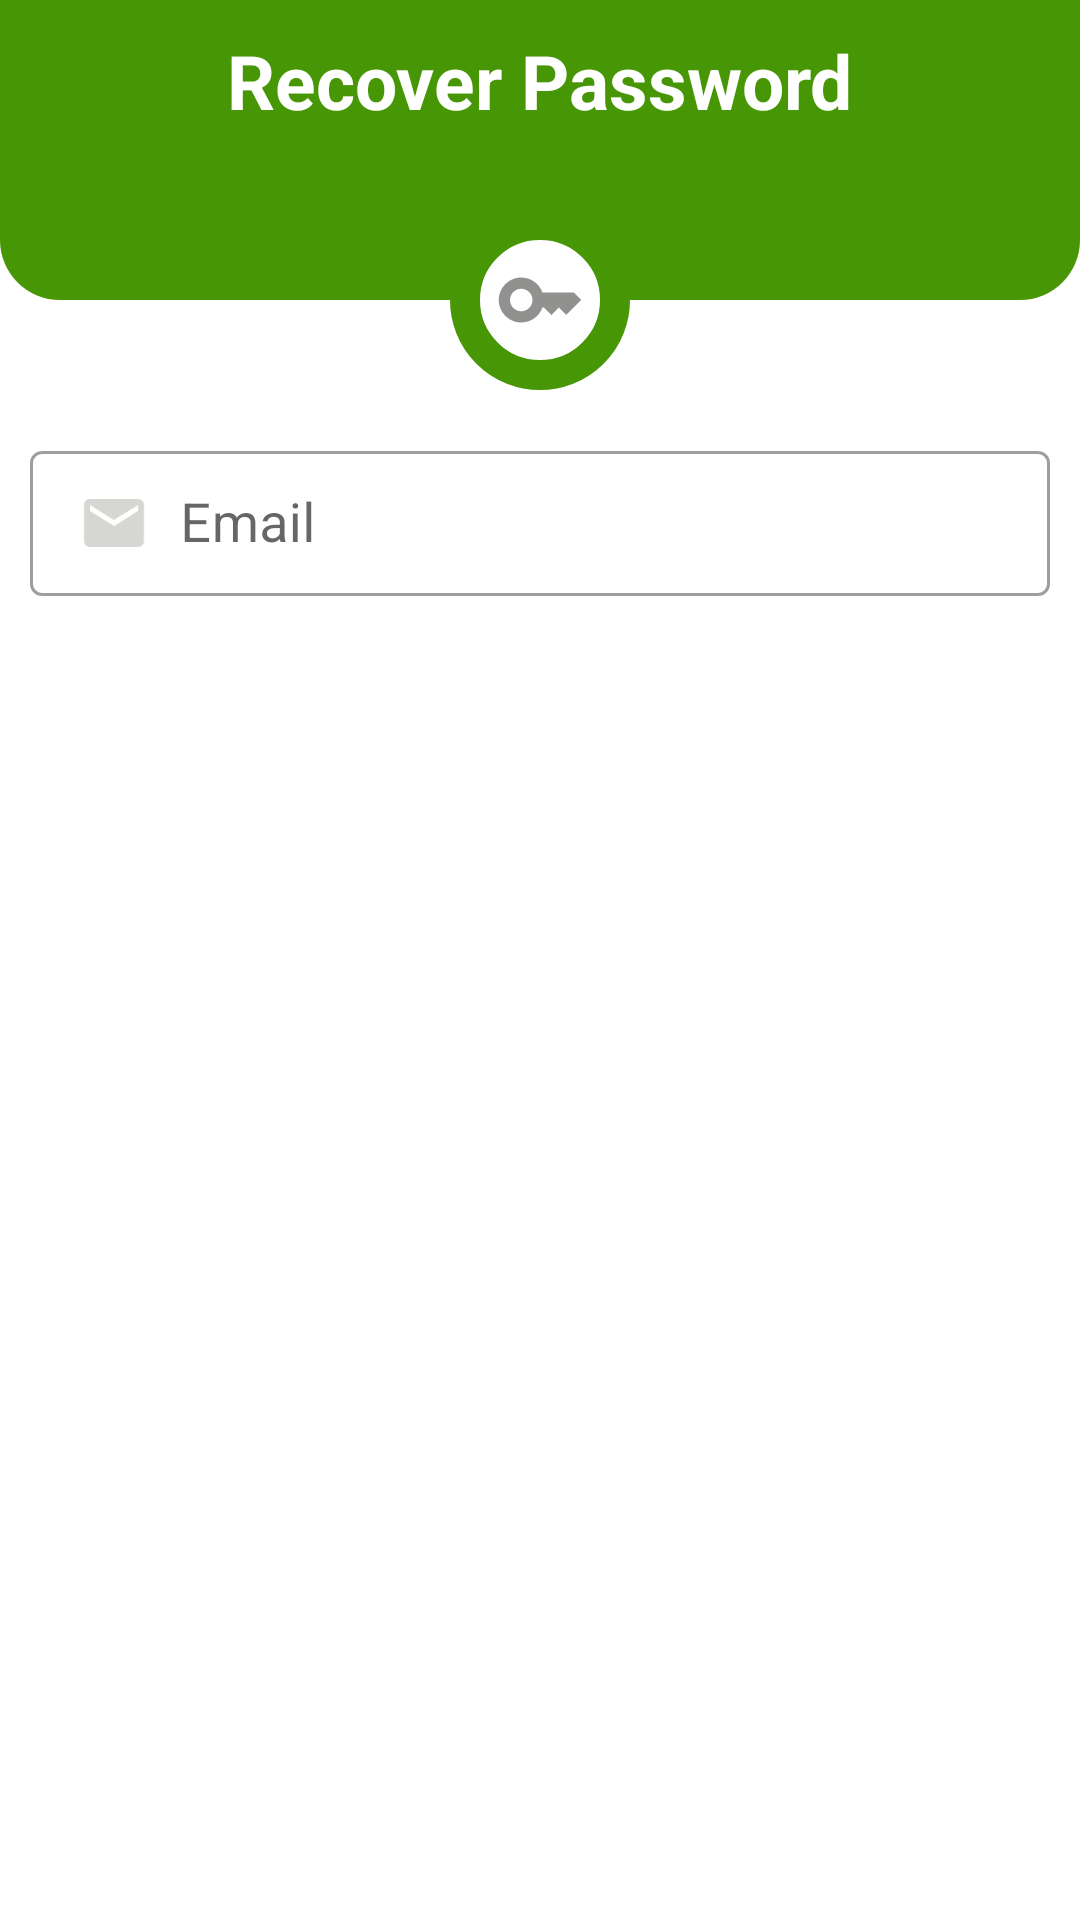

Point at icon controls on the screen. Image size 1080×1920, points as [x,y].
key: [540,300]
